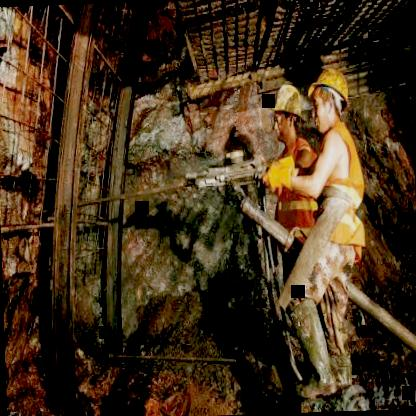helmet: (303, 60, 357, 136), (268, 79, 308, 149)
